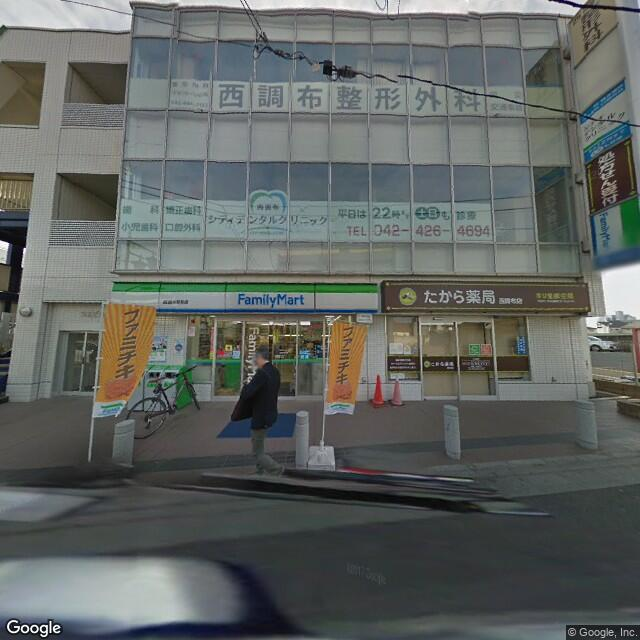family_mart: (109, 278, 380, 317), (590, 198, 637, 258), (232, 288, 308, 310), (241, 321, 256, 389)
